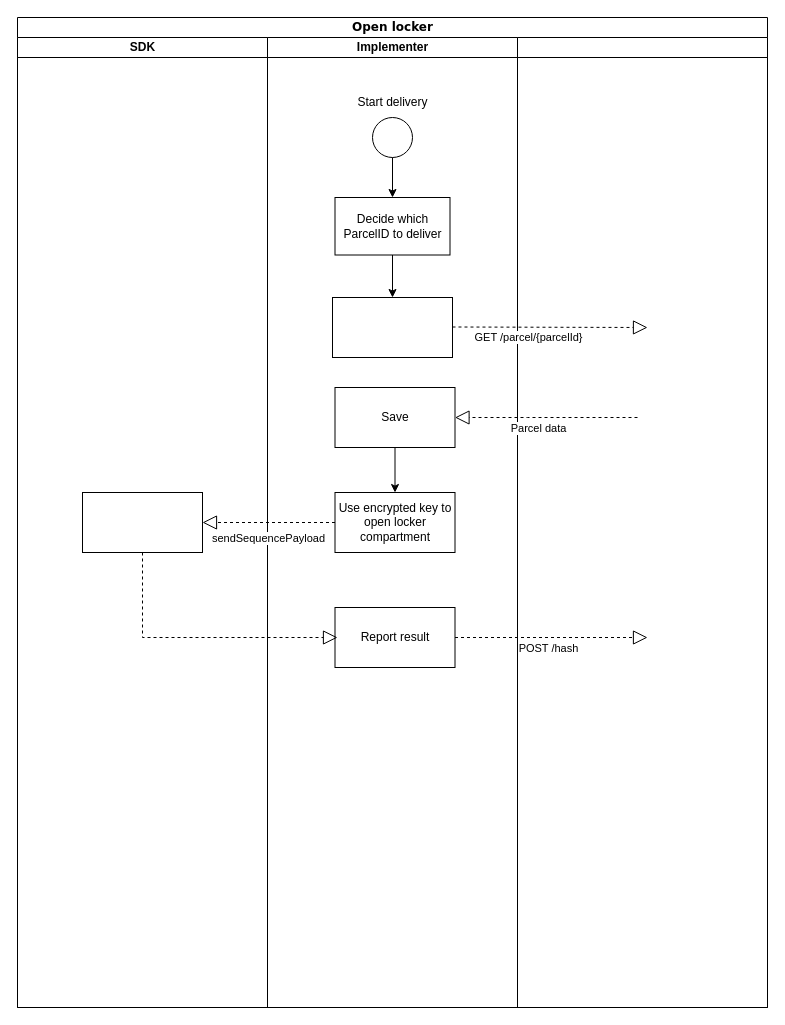
This 785x1025 diagram has some shape labels left out. Here are the shapes that lost their labels. From the top down, the centre of each, then its label:
At (392,327): "Request data".
At (142,522): "Open lock".
At (642,522): "iBoxen".
